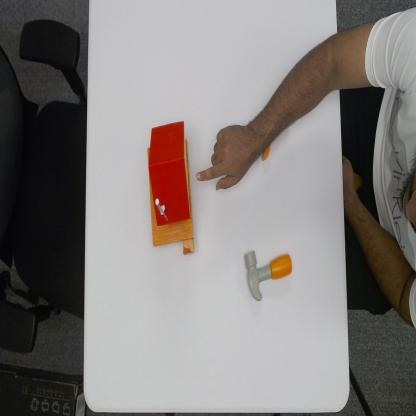Arm: (254, 32, 339, 156)
Hammer: (243, 245, 293, 302)
Hand: (195, 124, 255, 192)
House: (145, 118, 195, 255)
Screwdriver: (260, 144, 271, 162)
